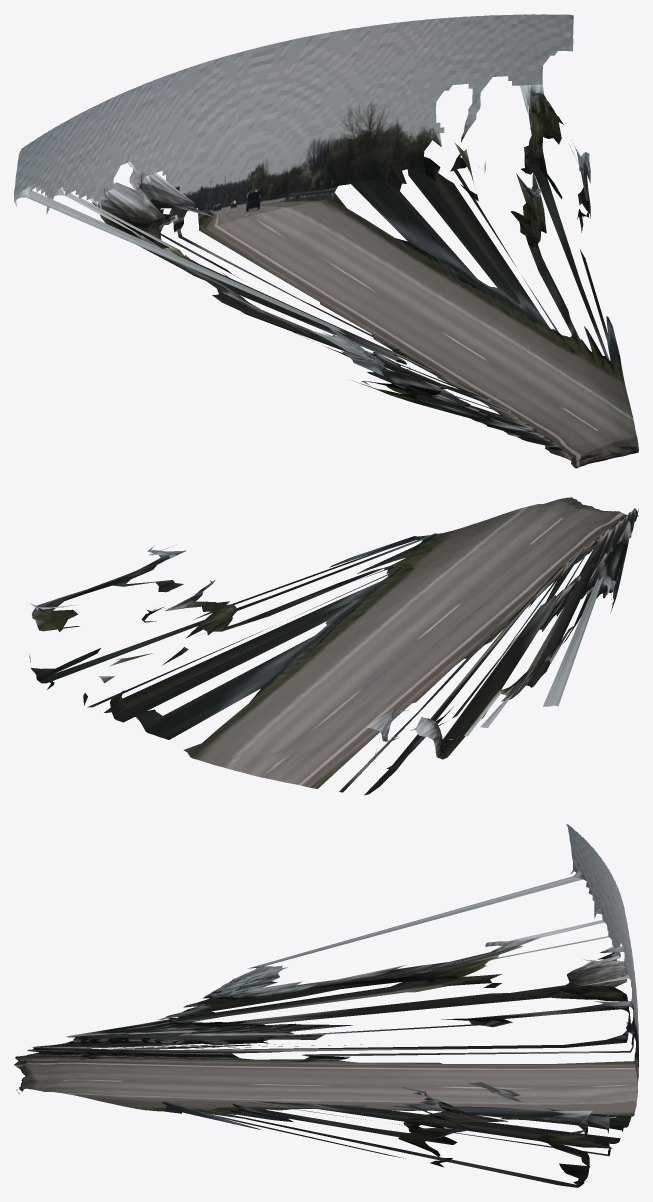
The picture shows the model from 3 angles, top to bottom: view 1: azimuth 30°, elevation 25°; view 2: azimuth 150°, elevation 25°; view 3: azimuth 270°, elevation 25°; orthographic projection. The views are drawn at different scales.
Visible parts, largest first — view 1: defaultobject; view 2: defaultobject; view 3: defaultobject.
Boxes of the visible parts, x1,y1,x2,y2 form: defaultobject: [14, 14, 638, 468]; defaultobject: [29, 497, 638, 795]; defaultobject: [14, 824, 638, 1187].
Bounding box in the file's own units: 40.89 × 12.25 × 44.59.
1 material, 1 textured.
